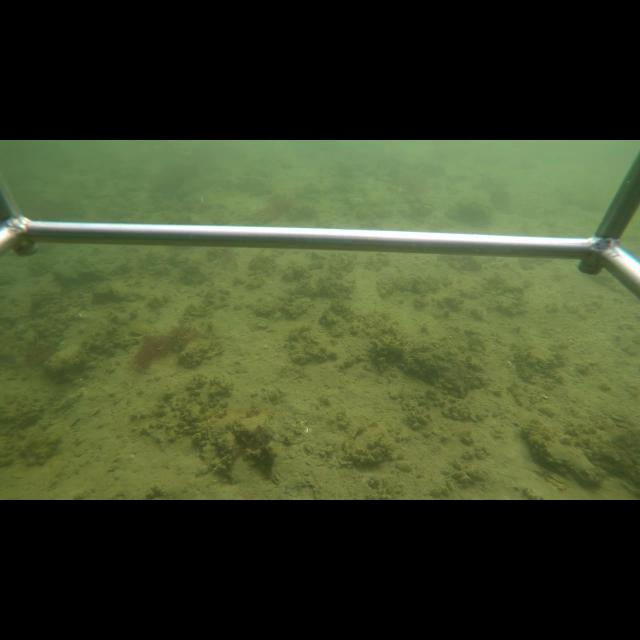Oyster-Closed: (521, 430, 609, 488)
Oyster-Open: (180, 300, 212, 321)
